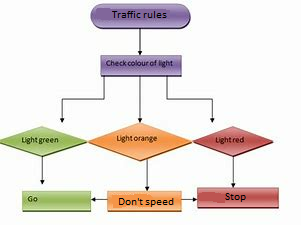arrow: (57, 74, 105, 123), (164, 75, 214, 122), (136, 72, 143, 121), (38, 153, 46, 184), (143, 156, 150, 190), (230, 154, 237, 187), (136, 28, 143, 56), (90, 196, 108, 203), (181, 195, 196, 201)
decision: (85, 120, 193, 163), (1, 123, 88, 159), (190, 124, 274, 158)
process: (196, 185, 281, 210), (99, 53, 184, 77), (105, 188, 182, 212), (21, 188, 93, 212)
terminator: (88, 2, 191, 29)
text: (104, 58, 173, 68), (110, 8, 167, 19), (115, 134, 159, 143), (19, 135, 58, 144), (213, 135, 244, 144), (223, 192, 246, 203), (25, 193, 38, 202)
